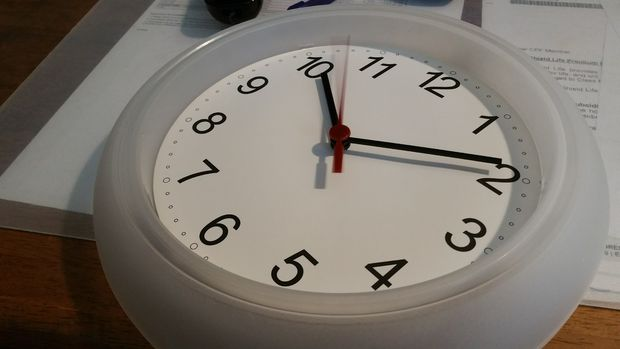clock: (94, 6, 606, 349)
